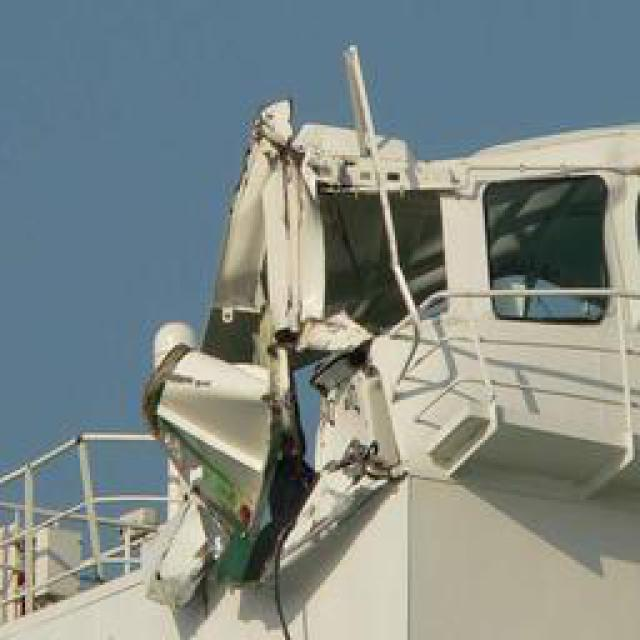Ship: (148, 40, 636, 628)
